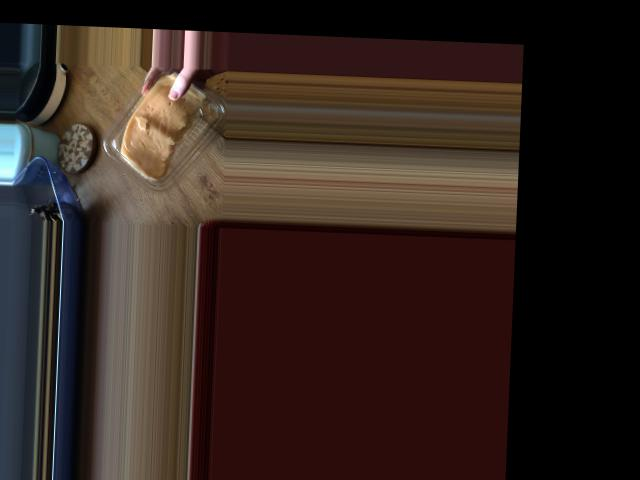cheese: (90, 74, 224, 208)
